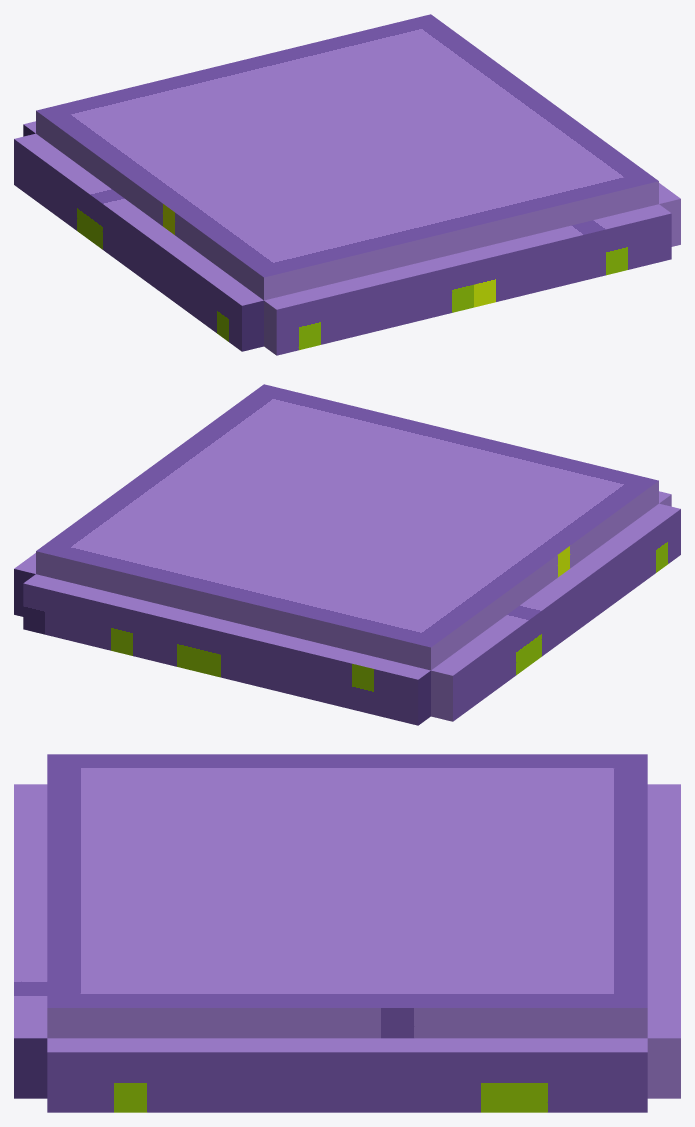
The model's file is weight_switch_baseao.fezao.glb.
3 views of the same model, one above another, from view 1: azimuth 30°, elevation 25°; view 2: azimuth 150°, elevation 25°; view 3: azimuth 270°, elevation 25° (orthographic). The views are drawn at different scales.
Parts seen in each view (by area): view 1: WEIGHT_SWITCH_BASEAO; view 2: WEIGHT_SWITCH_BASEAO; view 3: WEIGHT_SWITCH_BASEAO.
Boxes of the visible parts, <box> form: WEIGHT_SWITCH_BASEAO: <box>14,14,680,355</box>; WEIGHT_SWITCH_BASEAO: <box>14,384,680,725</box>; WEIGHT_SWITCH_BASEAO: <box>14,754,680,1112</box>.
Bounding box in the file's own units: 1.25 × 0.1875 × 1.25.
1 material, 1 textured.
